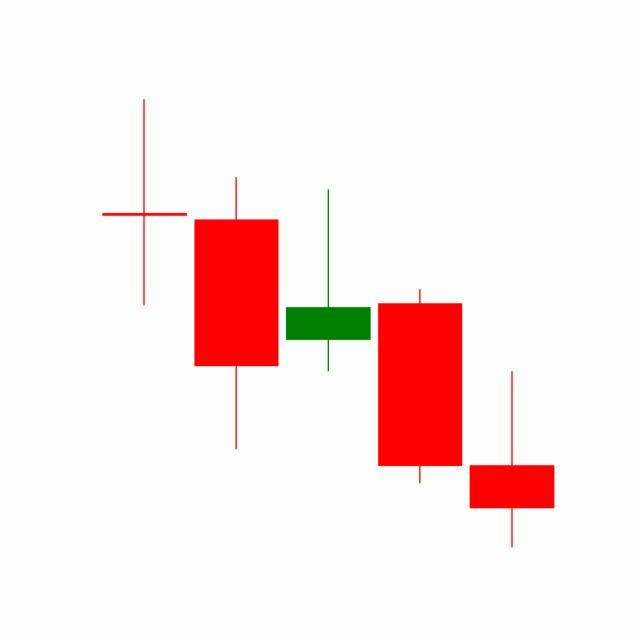Three Outside Up-Down: (280, 185, 555, 549)
